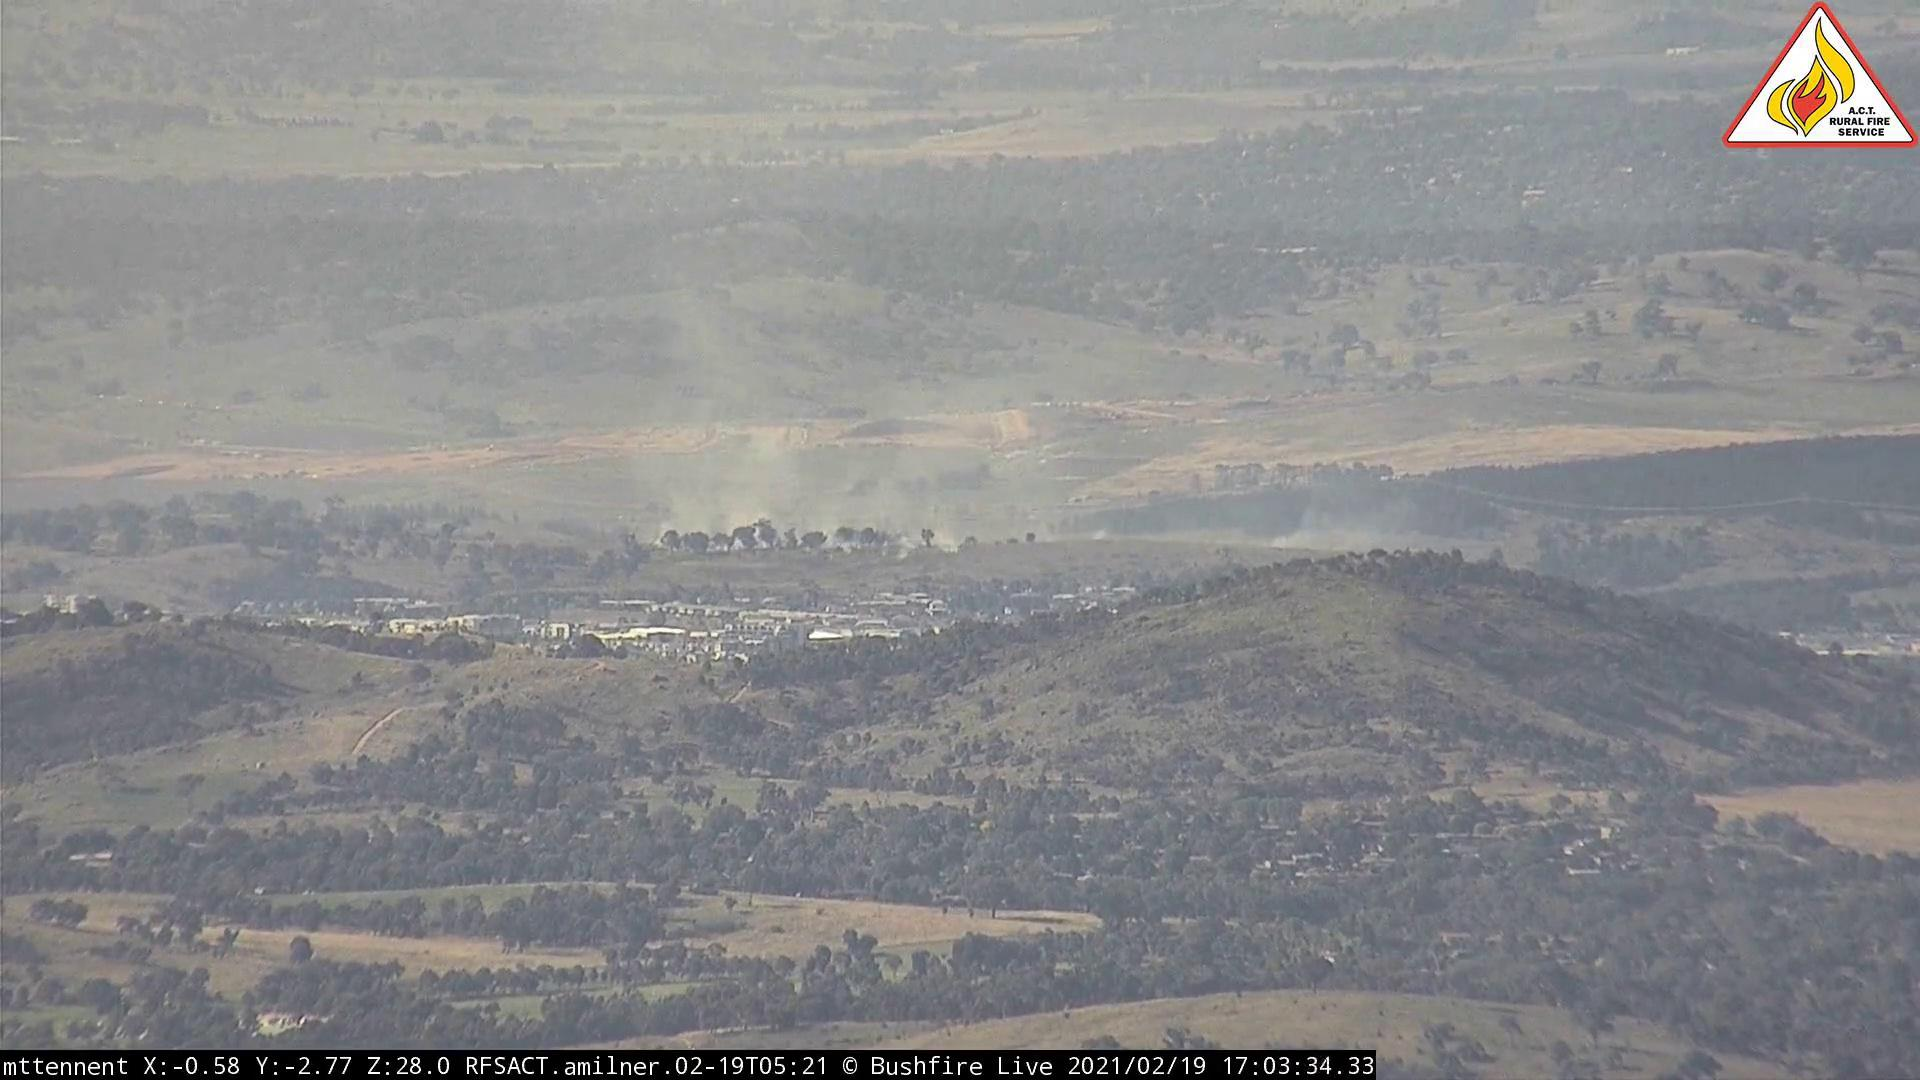Smoke: (645, 344, 1114, 545), (1267, 436, 1440, 553)
